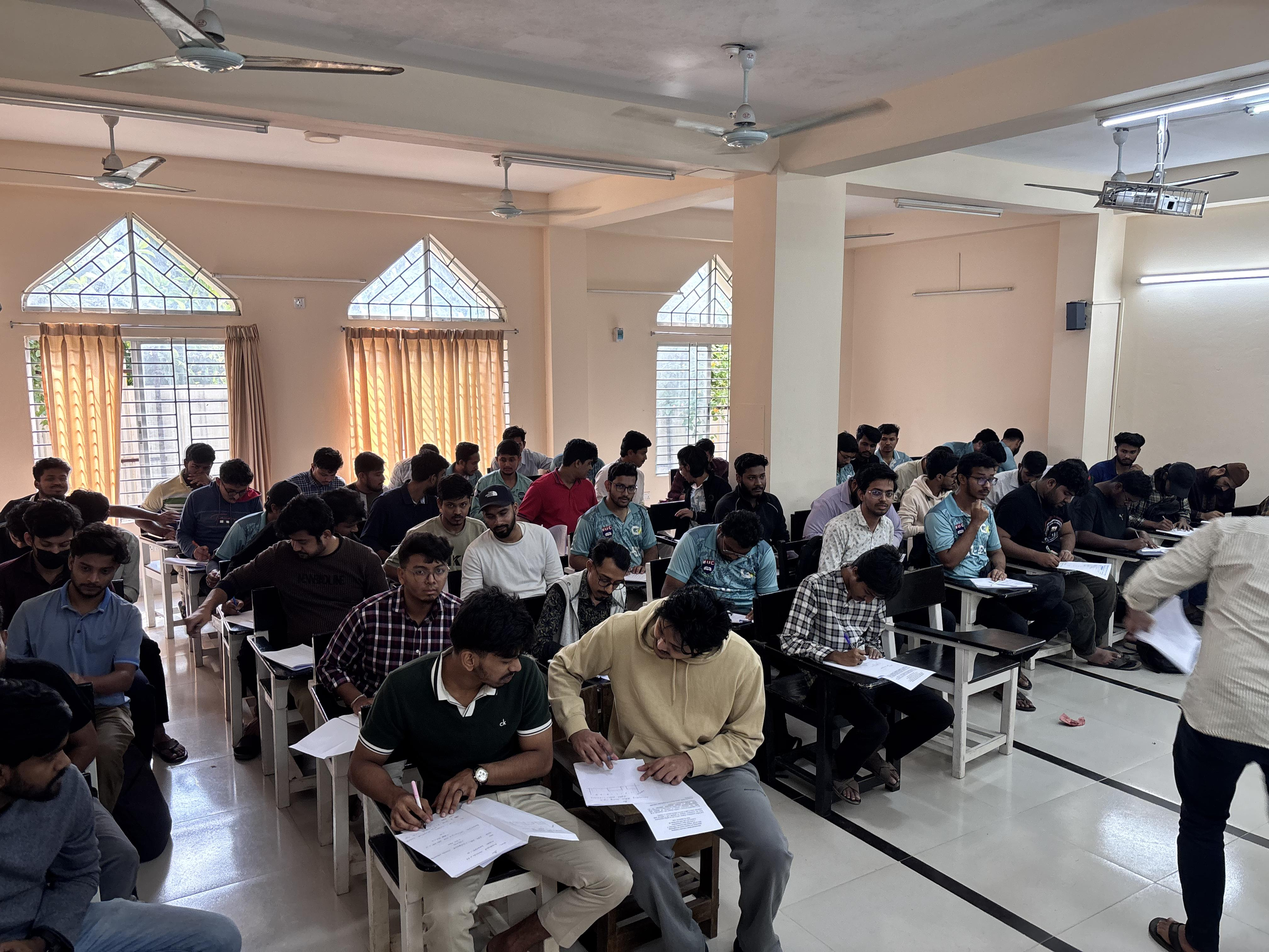copying: (522, 442, 596, 518), (342, 447, 391, 520), (610, 420, 665, 477)
invigilator: (1133, 498, 1269, 952)
no_cheating: (792, 548, 933, 759), (324, 548, 458, 685), (36, 531, 143, 698), (935, 457, 1027, 638), (1001, 455, 1103, 618), (458, 488, 542, 621), (581, 469, 658, 604), (546, 534, 640, 631), (664, 510, 771, 593), (818, 474, 895, 578), (716, 457, 813, 539), (178, 457, 260, 552), (3, 504, 84, 592), (1192, 438, 1256, 528), (8, 446, 78, 523), (149, 438, 219, 514), (420, 479, 482, 555), (1153, 456, 1199, 542), (293, 443, 353, 496), (873, 418, 910, 469), (837, 429, 860, 486)
side_talking: (359, 598, 555, 943), (562, 592, 785, 870), (0, 680, 161, 952), (190, 520, 361, 675), (657, 437, 723, 508), (381, 447, 446, 519), (960, 422, 1030, 457)
suspicious_moving: (20, 452, 90, 506), (479, 437, 523, 500), (1099, 423, 1151, 475), (452, 436, 489, 490)
